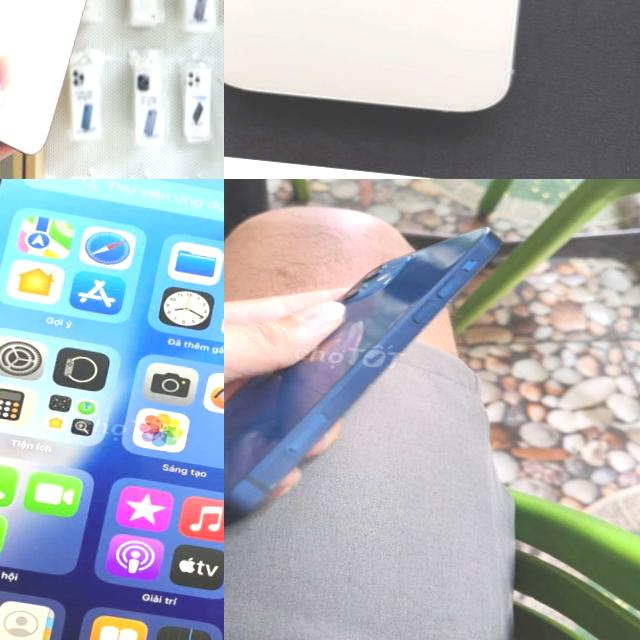gen_12_13: (224, 187, 504, 562)
gen_15: (224, 0, 576, 134)
gen_16: (0, 0, 128, 165)
gen_x_xs: (0, 179, 224, 640)
